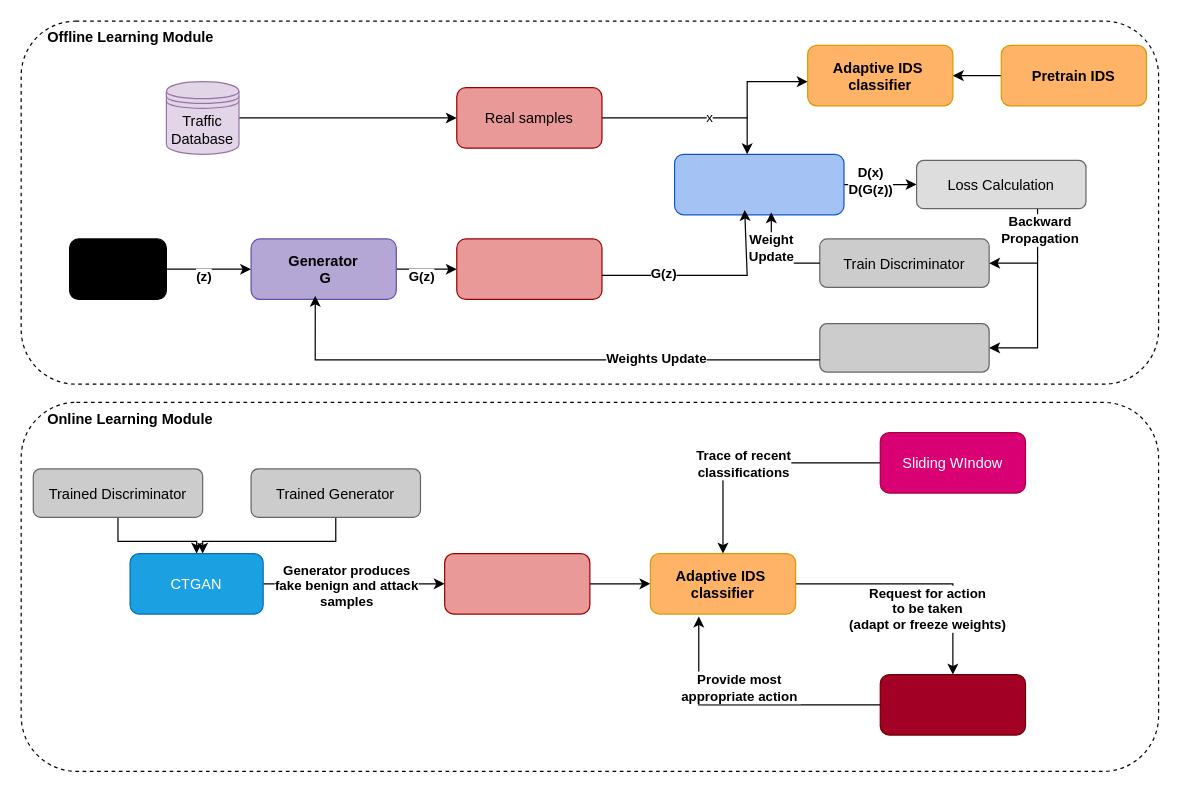
This 1180x793 diagram has some shape labels left out. Each missing label, with the centre of its shape:
"Discriminator D" goes at (x=758, y=184).
"Fake Samples" goes at (x=529, y=268).
"Input Noise" goes at (x=117, y=268).
"RL agent" goes at (x=952, y=704).
"Stream of Fake Samples" goes at (x=516, y=583).
"Train Generator" goes at (x=904, y=347).
